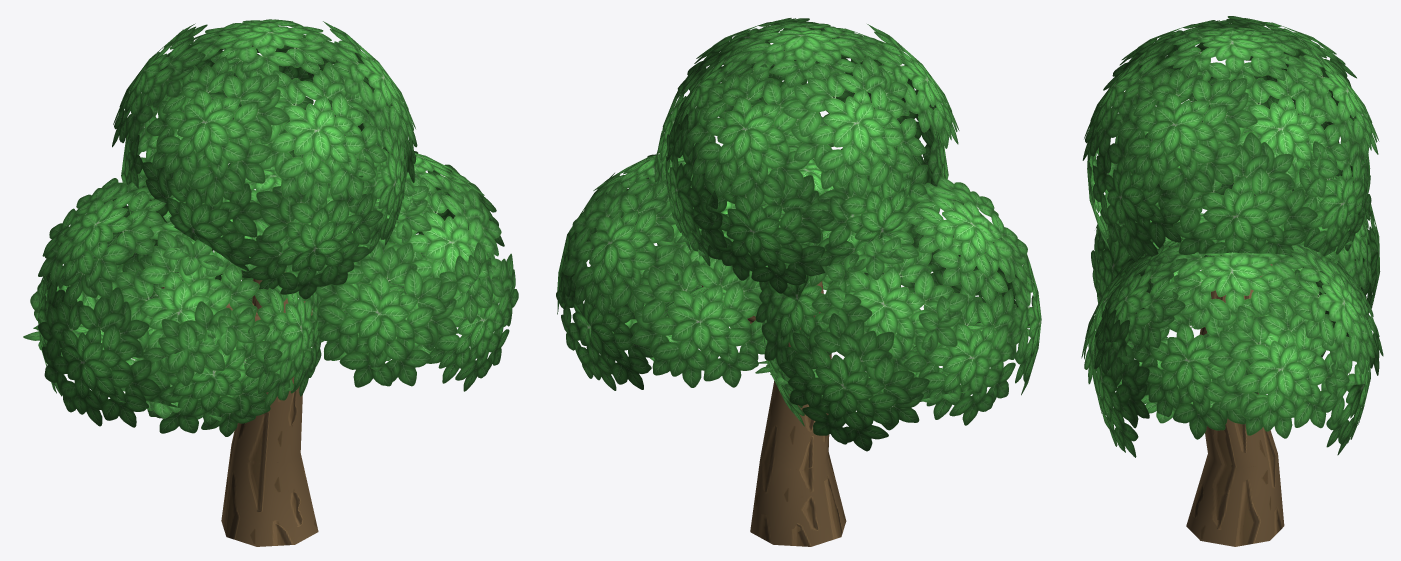
File: Ctn_Tree_01_v03.FBX
3 renders of one model, left to right at view 1: azimuth 30°, elevation 25°; view 2: azimuth 150°, elevation 25°; view 3: azimuth 270°, elevation 25°, orthographic. The views are drawn at different scales.
Visible parts, largest first — view 1: Ctn_Tree_01_v03; view 2: Ctn_Tree_01_v03; view 3: Ctn_Tree_01_v03.
Part boxes in pixels (x1,y1,x2,y2): Ctn_Tree_01_v03: (23, 19, 518, 546); Ctn_Tree_01_v03: (556, 18, 1041, 546); Ctn_Tree_01_v03: (1081, 16, 1383, 546).
Bounding box in the file's own units: 263 × 275 × 158.
